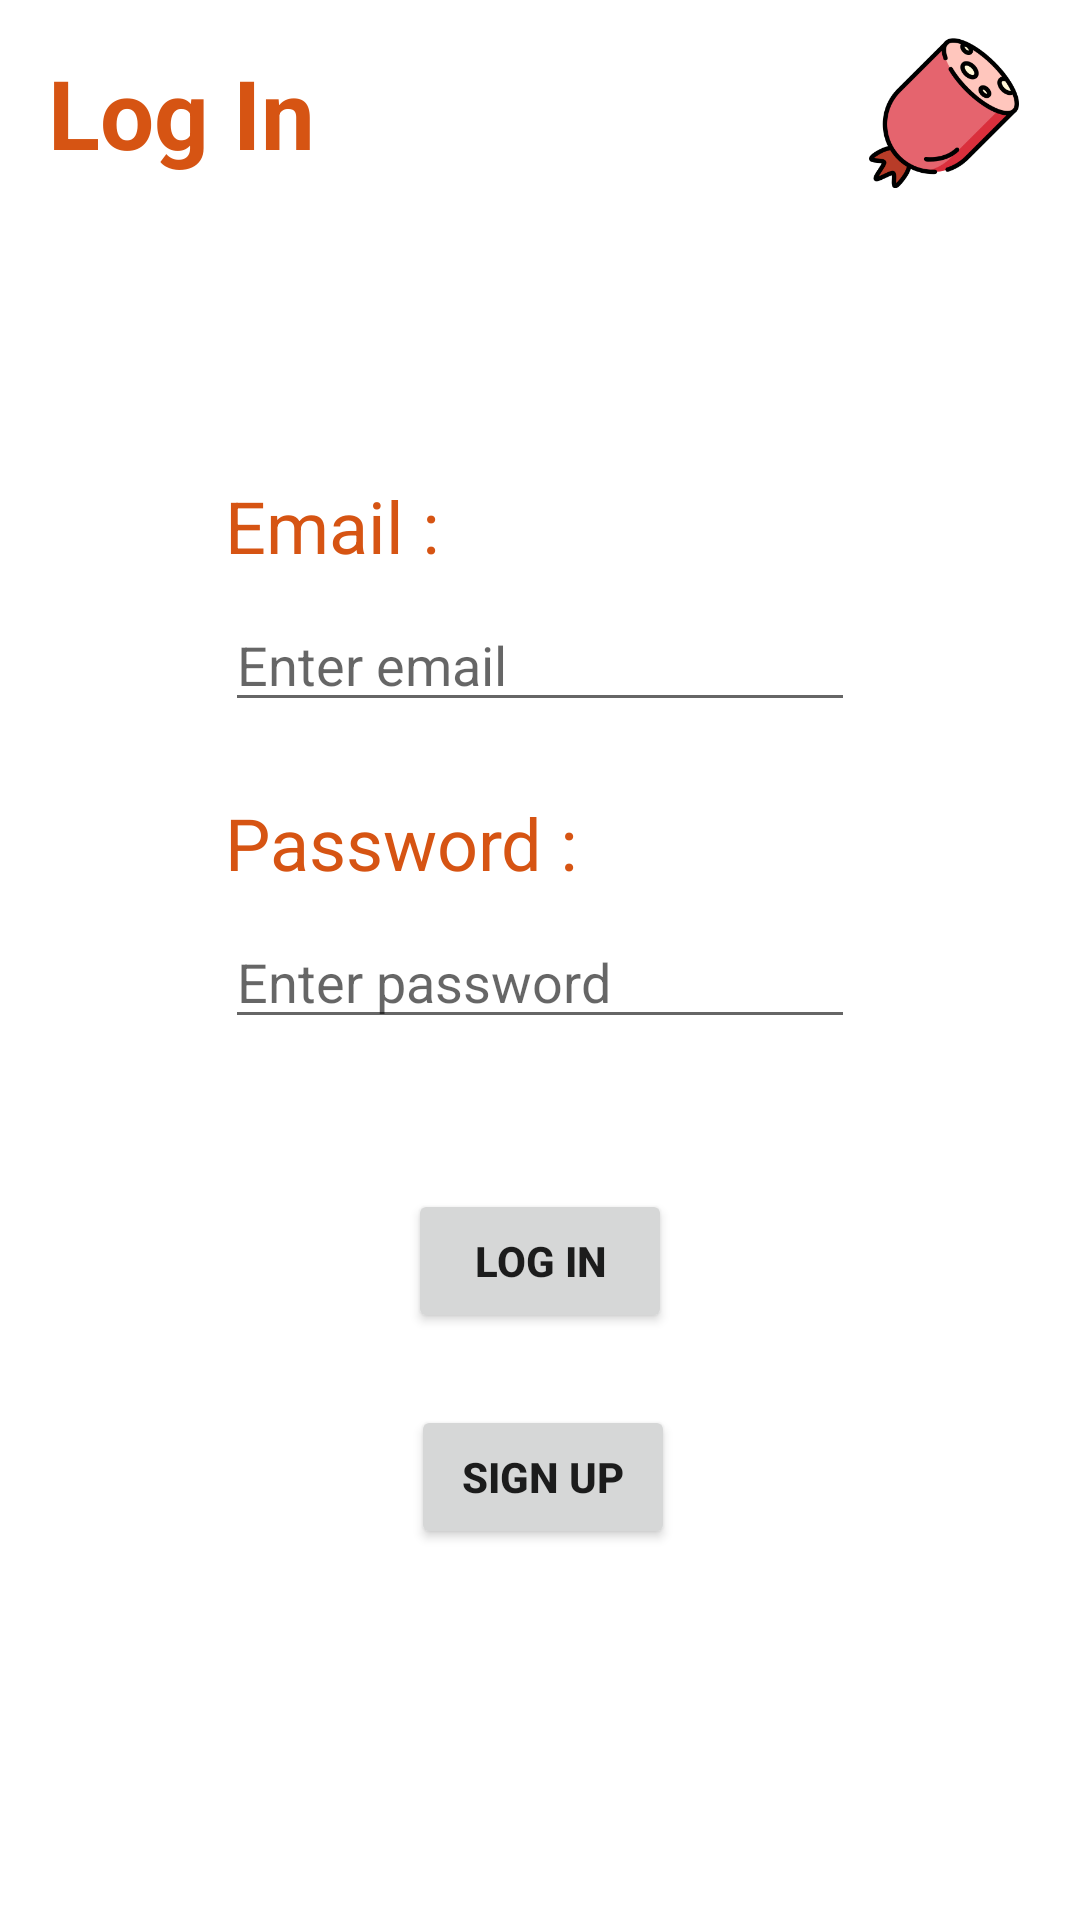

Icon click points for this 1080w x 1920h phone screenshot, format [x,y]:
sausage login: [944,113]
